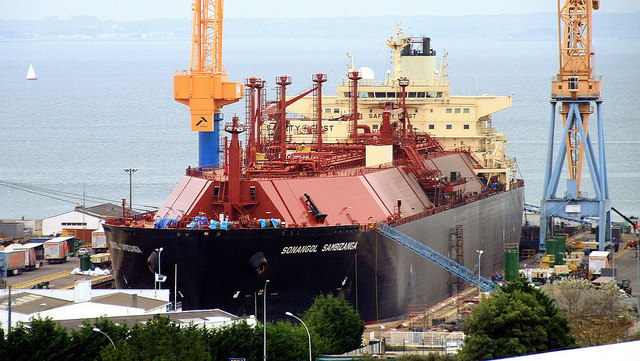LNG_ship: (102, 21, 523, 280)
boat: (21, 57, 39, 84)
